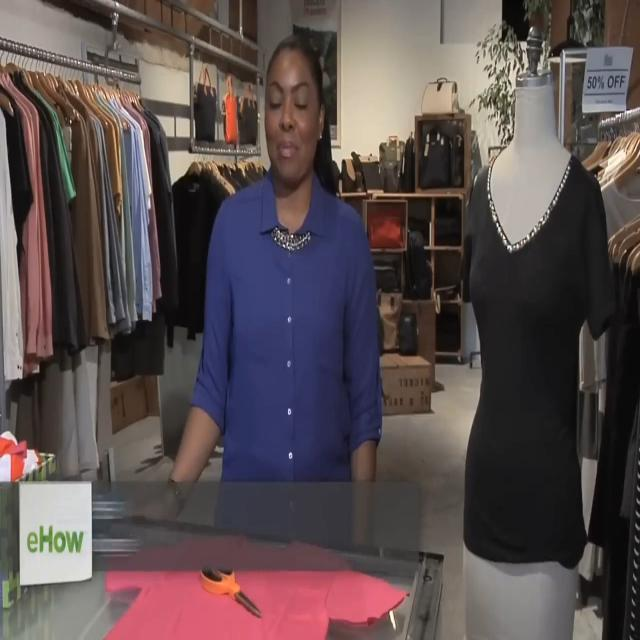shirt: (189, 161, 383, 546)
